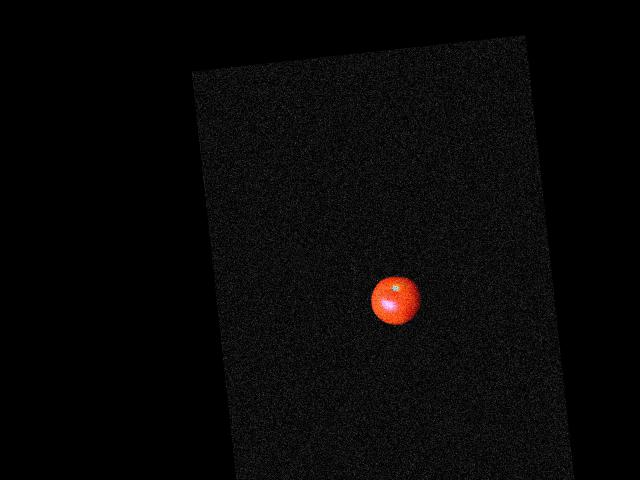tomato: (368, 274, 423, 327)
